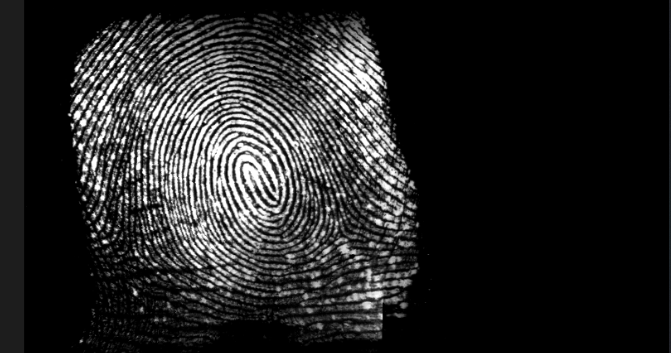deltas: (109, 227, 155, 278), (318, 212, 364, 250)
nucleo: (233, 150, 277, 212)
